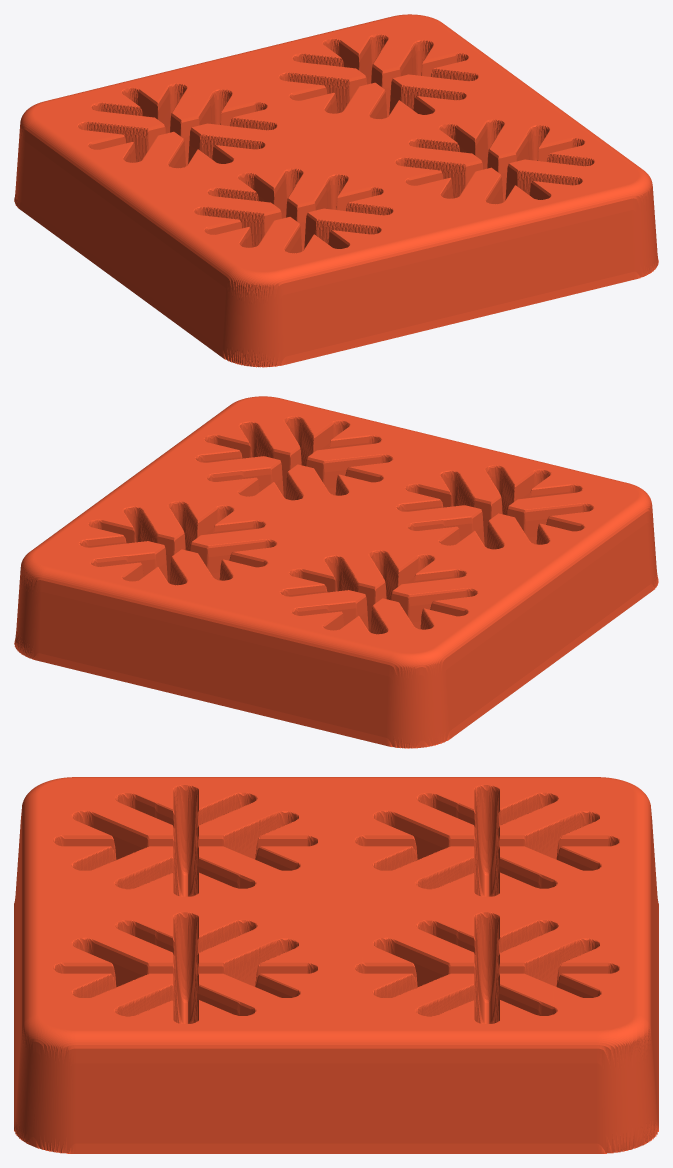
The model's file is mold.glb.
3 renders of one model, top to bottom at view 1: azimuth 30°, elevation 25°; view 2: azimuth 150°, elevation 25°; view 3: azimuth 270°, elevation 25°, orthographic. The views are drawn at different scales.
Parts seen in each view (by area): view 1: geometry_0; view 2: geometry_0; view 3: geometry_0.
Part boxes in pixels (x1,y1,x2,y2): geometry_0: (14, 14, 658, 367); geometry_0: (14, 396, 658, 748); geometry_0: (14, 777, 658, 1153).
Size of the model in its own units: 0.0942 by 0.0182 by 0.0942.
